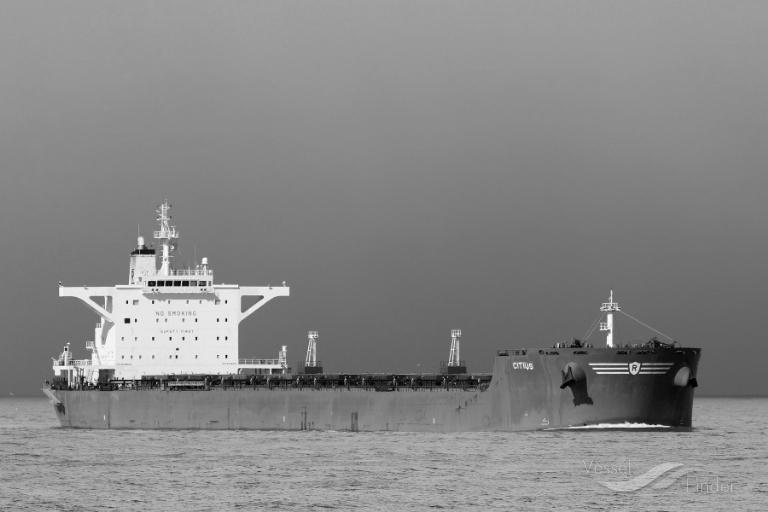OCR: (505, 357, 542, 374)
